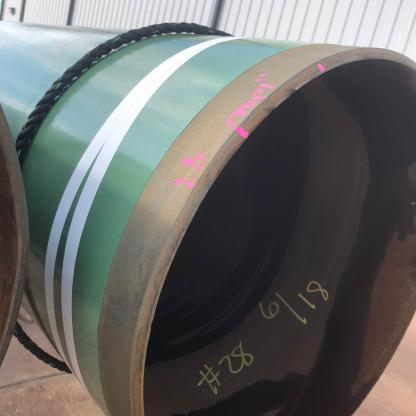Bevel: (277, 76, 307, 101), (255, 101, 281, 125)
